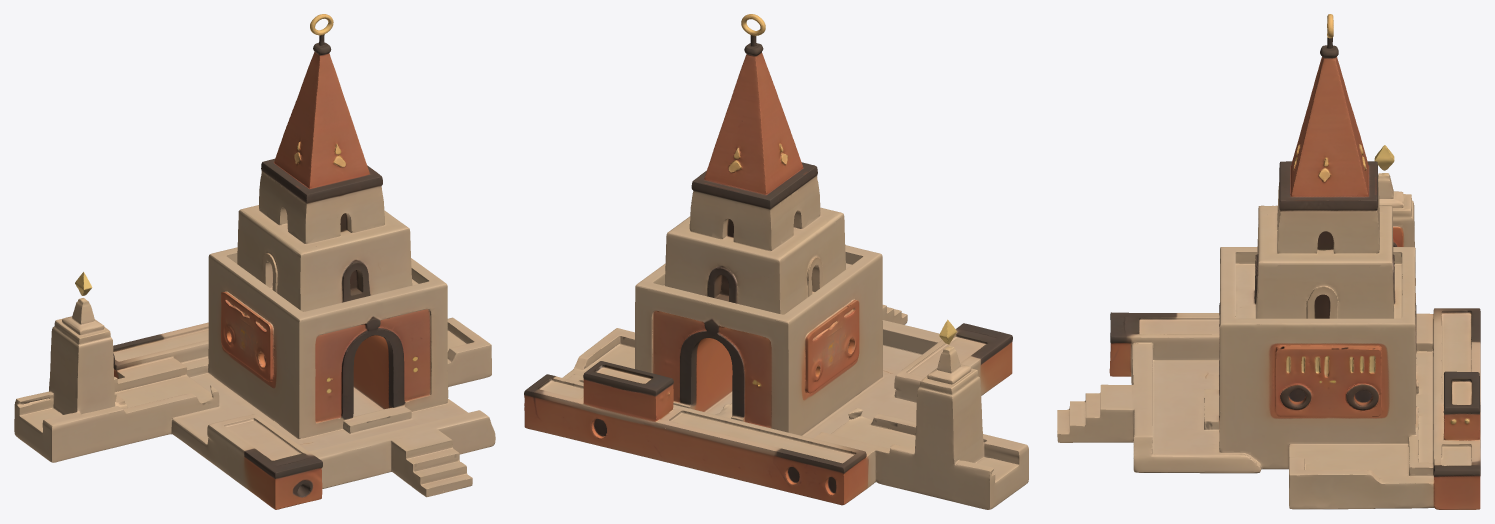
The picture shows the model from 3 angles, left to right: view 1: azimuth 30°, elevation 25°; view 2: azimuth 150°, elevation 25°; view 3: azimuth 270°, elevation 25°; orthographic projection. The views are drawn at different scales.
Parts seen in each view (by area): view 1: model; view 2: model; view 3: model.
Boxes of the visible parts, bbox=[...] form: model: bbox=[14, 14, 495, 509]; model: bbox=[524, 14, 1028, 509]; model: bbox=[1057, 14, 1480, 509].
Size of the model in its own units: 1.67 by 1.46 by 1.35.
1 material, 1 textured.
